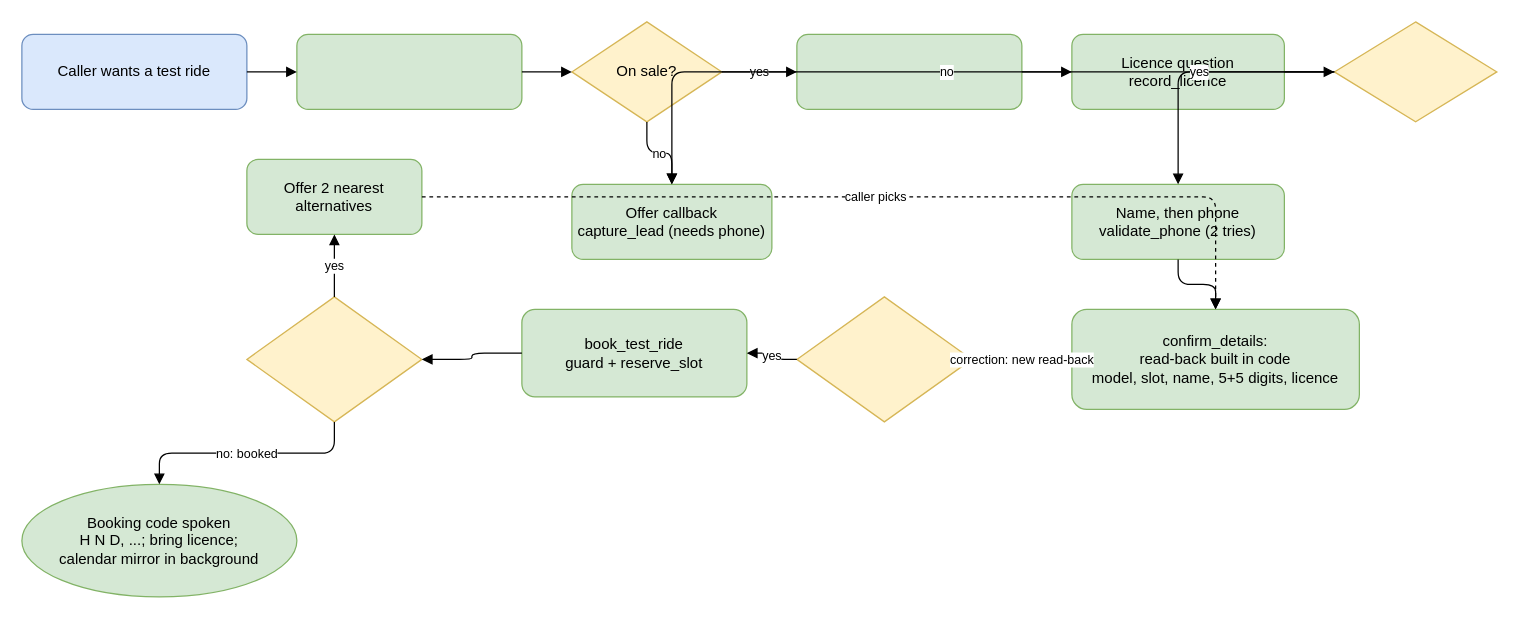
Some shapes in this 1519 by 619 pixel diagram are drawn without their labels. Here are the shapes that lost their labels. From the top down, the centre of each, then its label:
point 409,71: start_booking model (+ day, time)
point 909,71: Slot search in code (free capacity, IST grid)
point 1415,71: Valid licence?
point 334,359: Slot just taken?
point 884,359: Caller says yes (next turn)?
